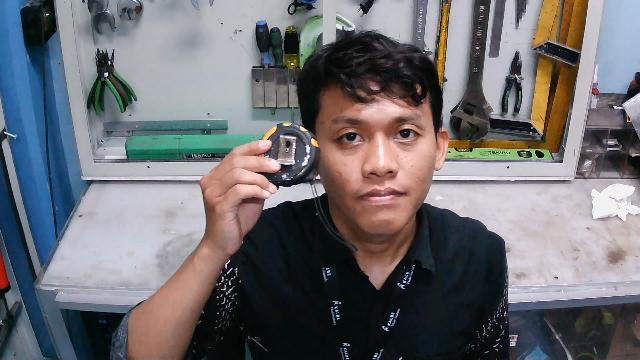meteran: (245, 117, 327, 200)
